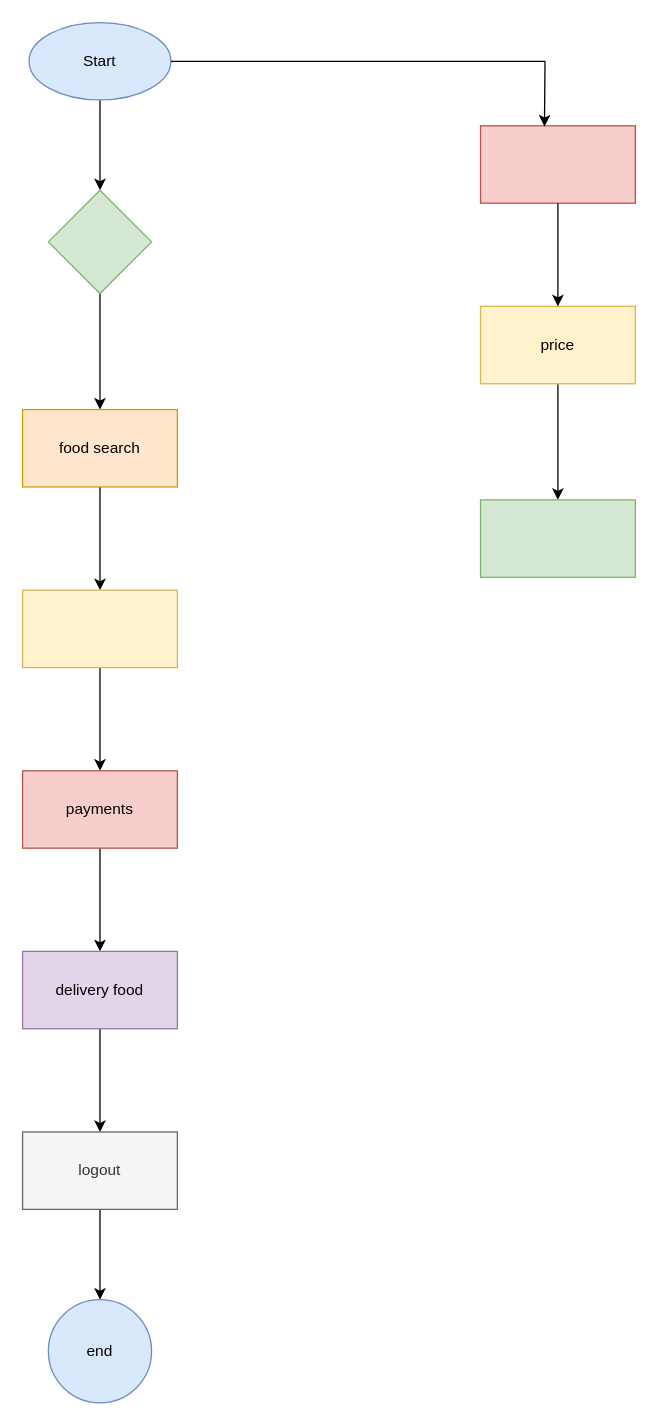
Image size: 658x1425. Some labels were removed from this diagram. Each missing label, with the box of its shape:
discount: (479, 499, 635, 577)
food order: (21, 589, 177, 668)
login: (47, 189, 152, 293)
online payments: (479, 124, 635, 203)
